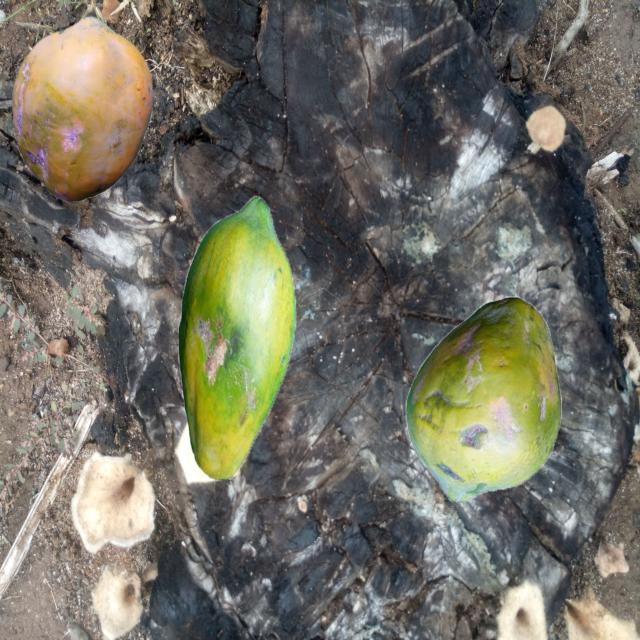Pepaya rippen: (183, 204, 304, 491), (409, 292, 573, 500), (12, 19, 164, 212)
